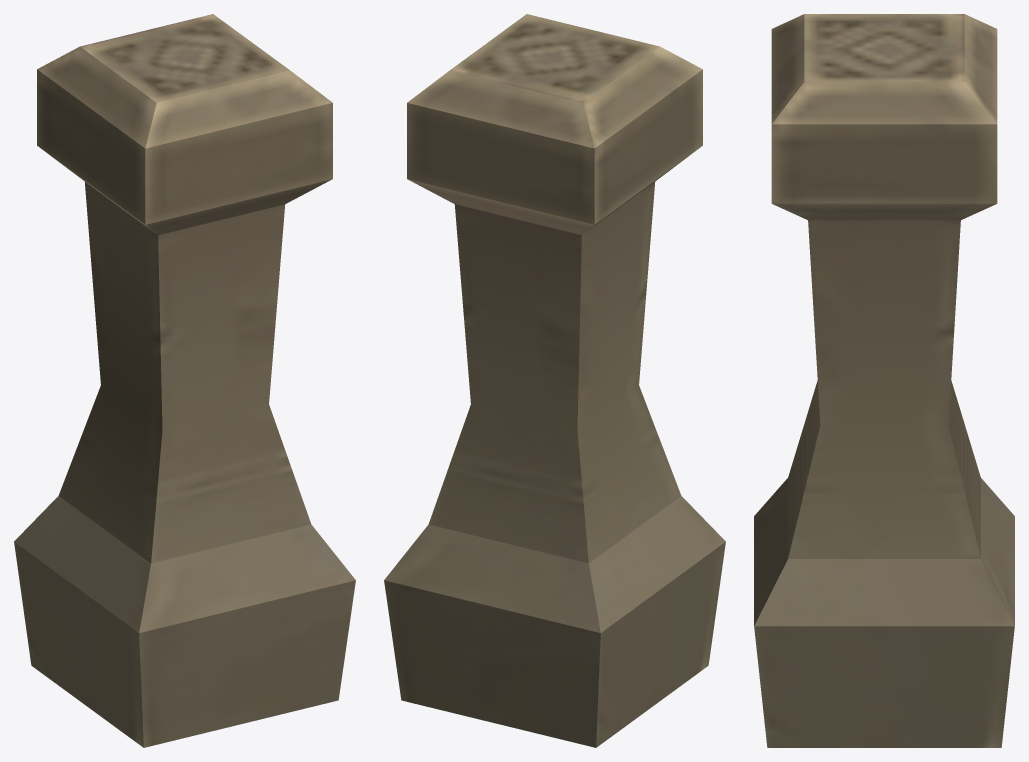
Rendered from fence_7_2.FBX.
The picture shows the model from 3 angles, left to right: view 1: azimuth 30°, elevation 25°; view 2: azimuth 150°, elevation 25°; view 3: azimuth 270°, elevation 25°; orthographic projection. The views are drawn at different scales.
Parts seen in each view (by area): view 1: fence_7_2; view 2: fence_7_2; view 3: fence_7_2.
Boxes of the visible parts, x1,y1,x2,y2 form: fence_7_2: (14, 14, 355, 747); fence_7_2: (384, 14, 725, 747); fence_7_2: (754, 14, 1014, 747).
Bounding box in the file's own units: 6.41 × 17.65 × 6.41.
